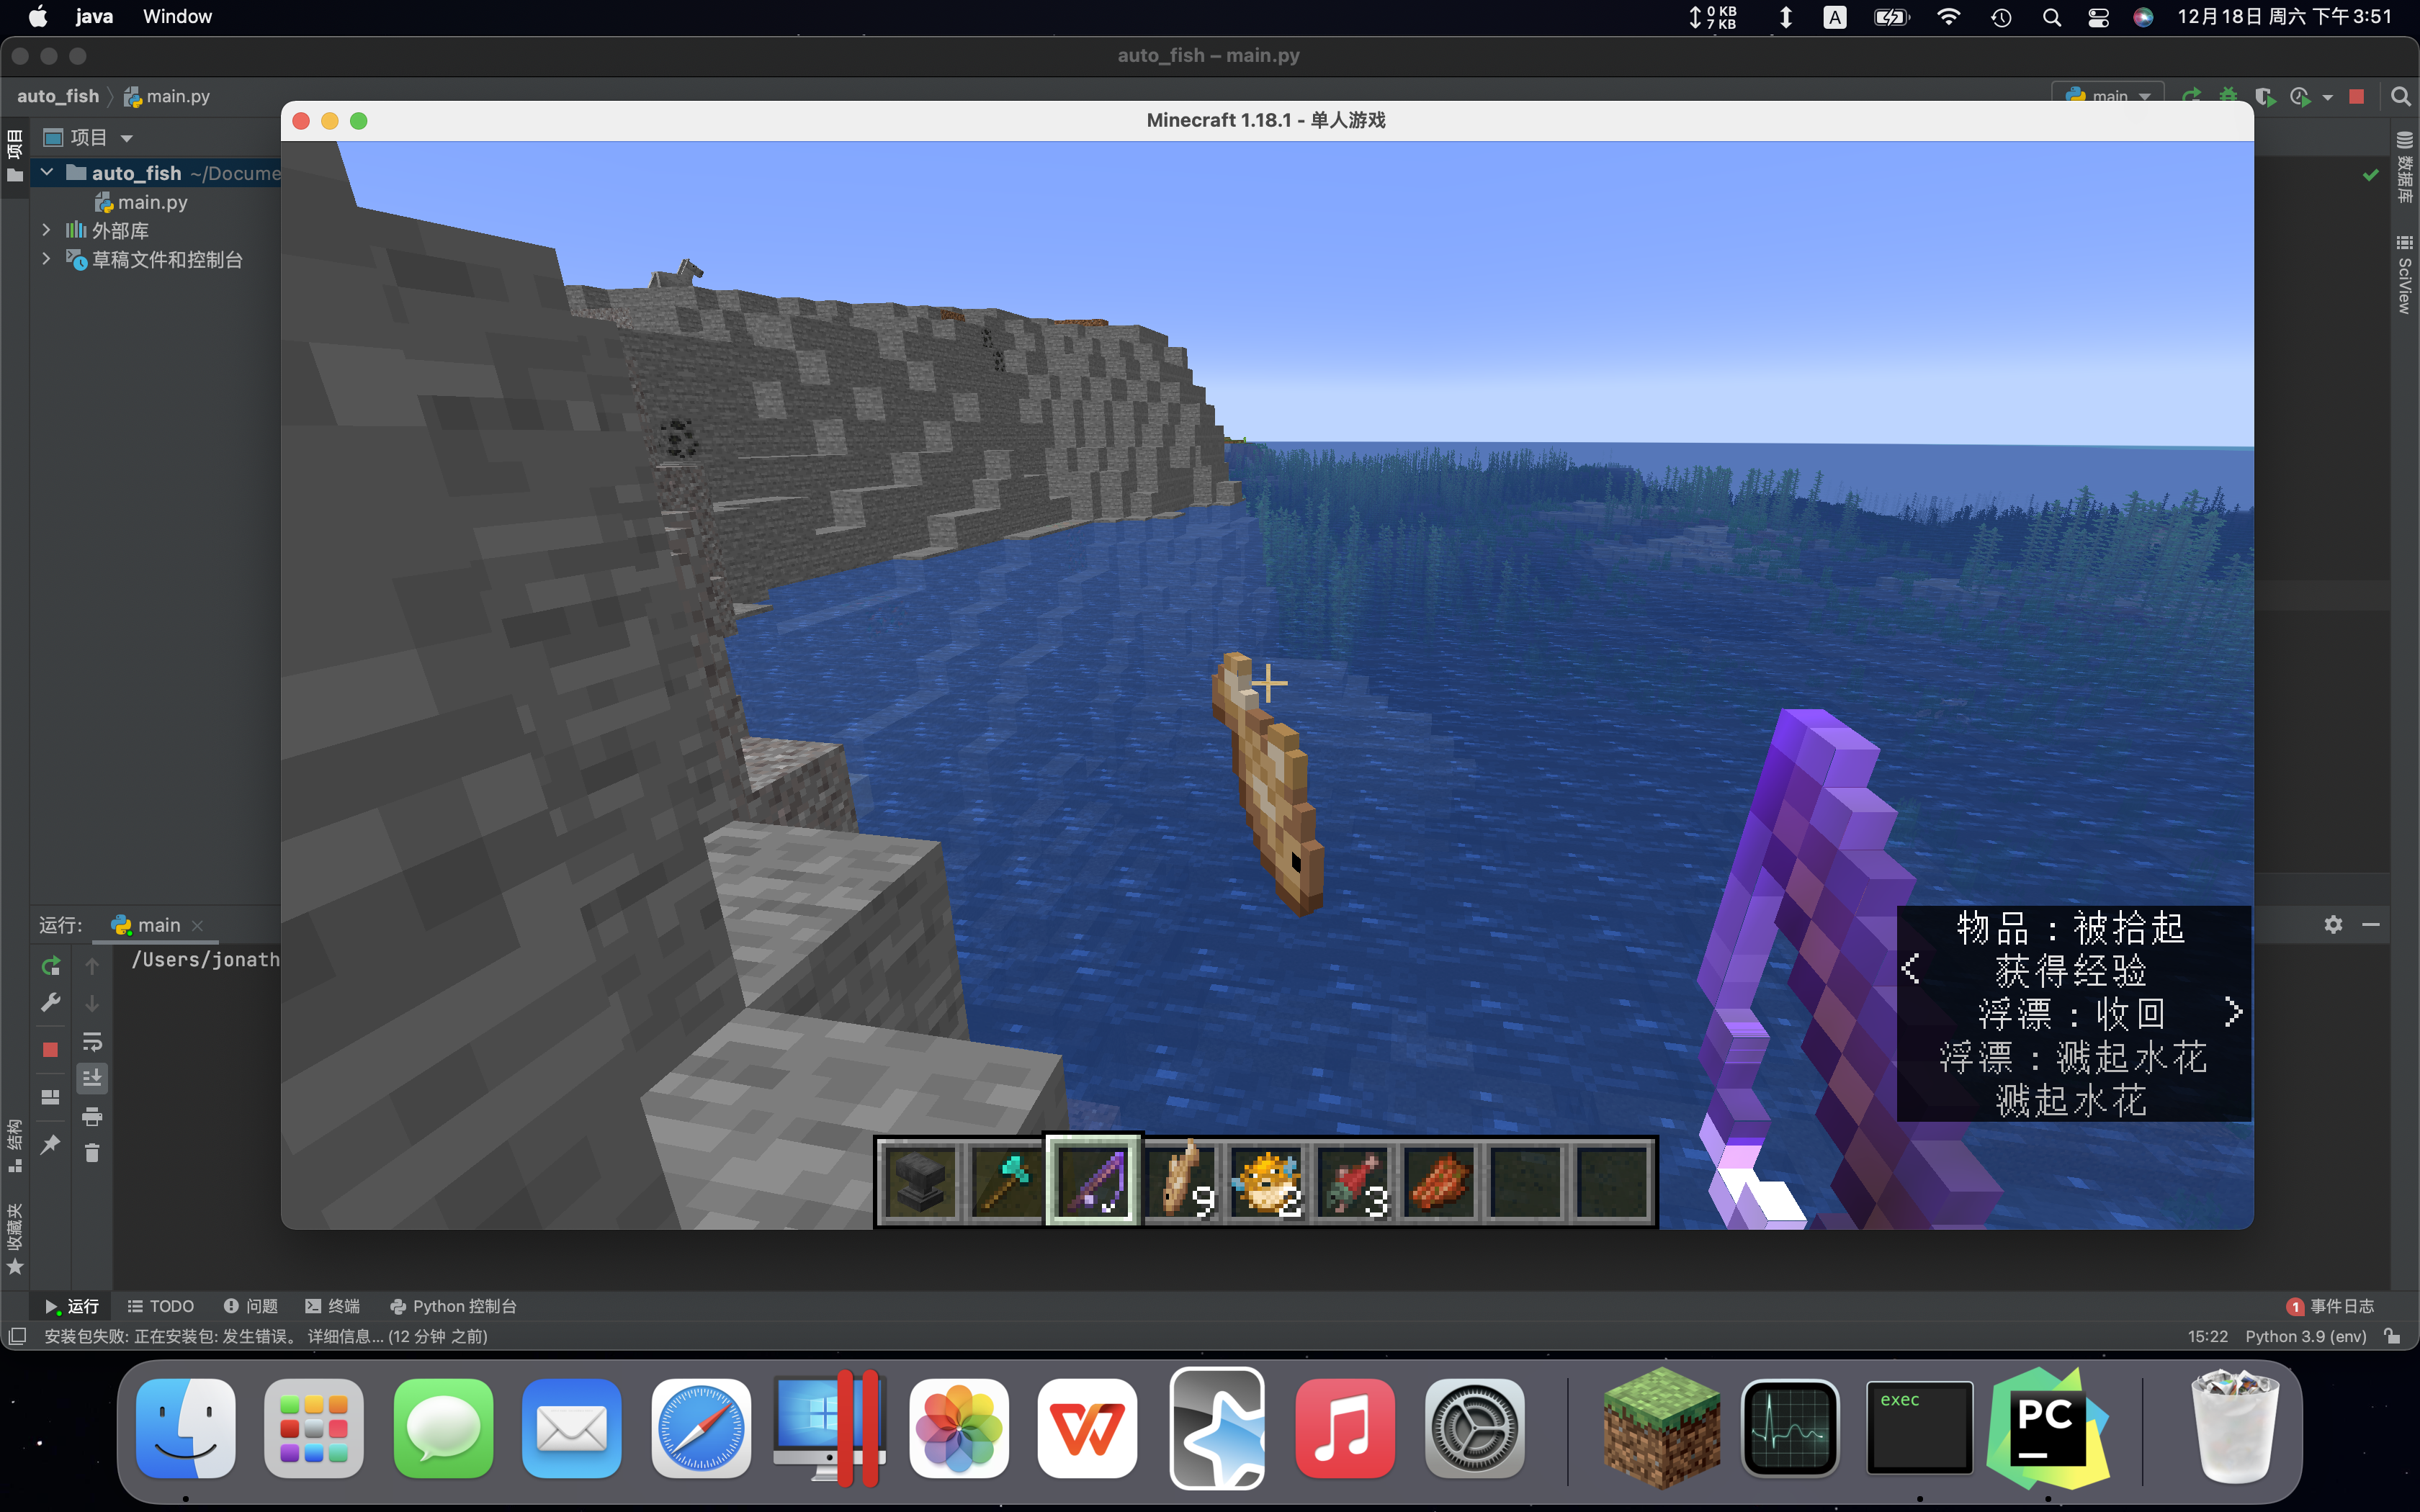inf: (1903, 908, 2253, 1125)
